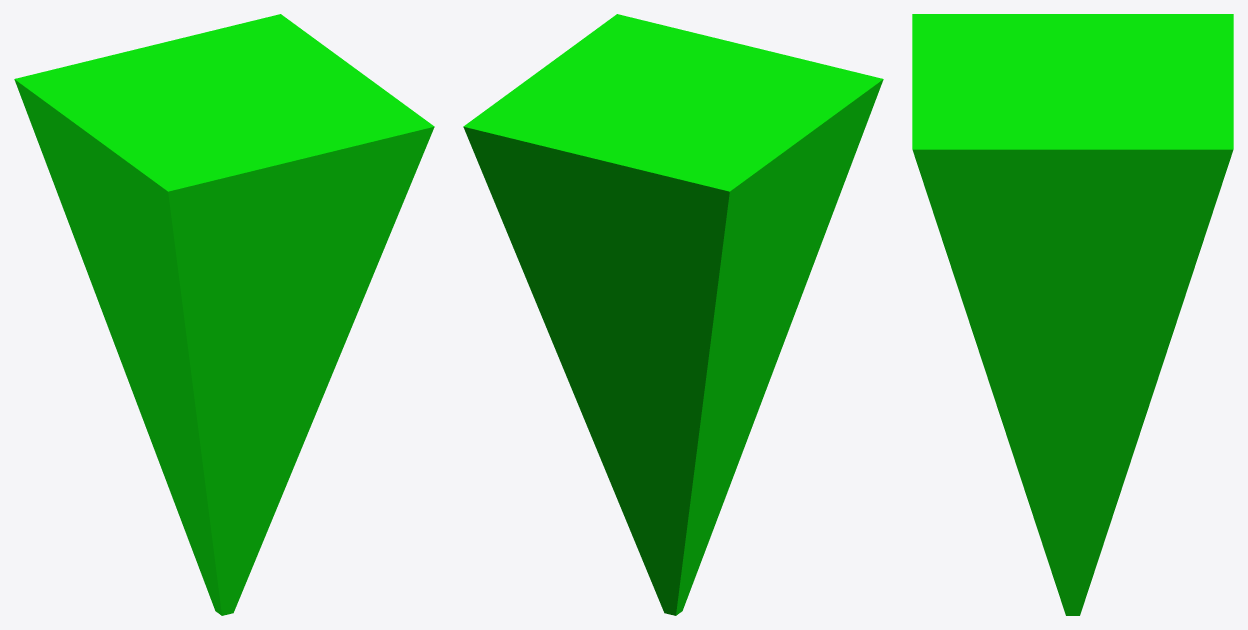
The model's file is pointer_pyramid.glb.
The picture shows the model from 3 angles, left to right: view 1: azimuth 30°, elevation 25°; view 2: azimuth 150°, elevation 25°; view 3: azimuth 270°, elevation 25°; orthographic projection. The views are drawn at different scales.
Parts seen in each view (by area): view 1: pointer; view 2: pointer; view 3: pointer.
Part boxes in pixels (x1,y1,x2,y2): pointer: [14, 14, 434, 615]; pointer: [463, 14, 883, 615]; pointer: [912, 14, 1233, 615].
Bounding box in the file's own units: 1.1 × 2 × 1.1.
1 material, 1 textured.
